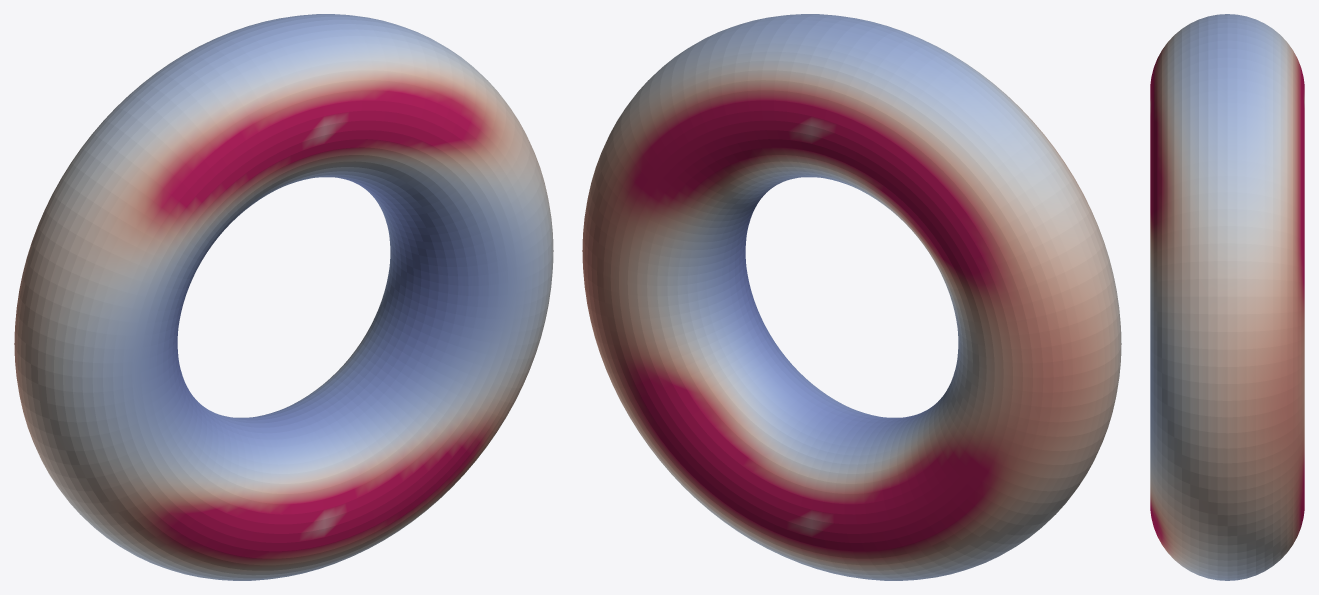
The picture shows the model from 3 angles, left to right: view 1: azimuth 30°, elevation 25°; view 2: azimuth 150°, elevation 25°; view 3: azimuth 270°, elevation 25°; orthographic projection. The views are drawn at different scales.
Visible parts, largest first — view 1: world; view 2: world; view 3: world.
Boxes of the visible parts, box(x1,y1,x2,y2) form: world: box(14, 14, 553, 580); world: box(582, 14, 1121, 580); world: box(1150, 14, 1304, 580).
Bounding box in the file's own units: 22.93 × 22.93 × 6.25.
